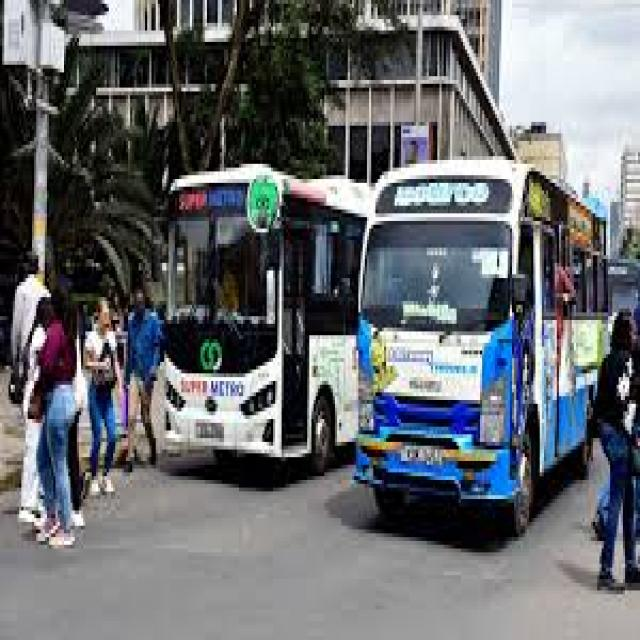bus: (352, 172, 588, 499), (158, 159, 350, 492)
